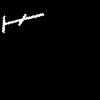double_crochet: (2, 14, 43, 32)
